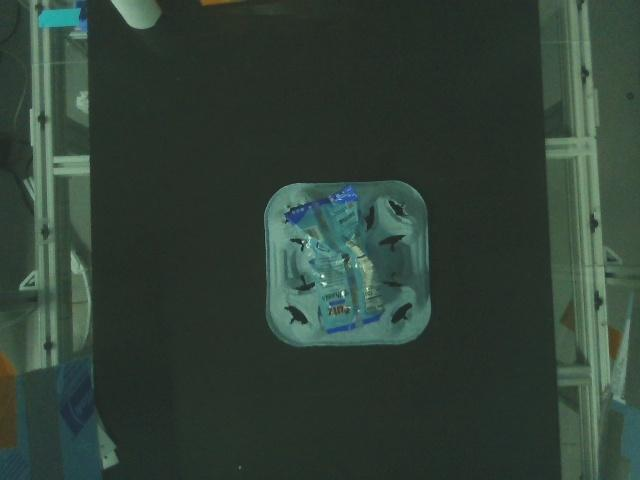cardboard: (261, 177, 435, 351), (107, 0, 164, 33), (194, 0, 255, 12)
plastic: (280, 181, 392, 337)
